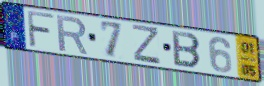6: (207, 36, 233, 74)
7: (100, 20, 125, 60)
B: (171, 29, 203, 70)
F: (26, 9, 57, 50)
R: (55, 13, 90, 56)
Z: (131, 23, 162, 67)
